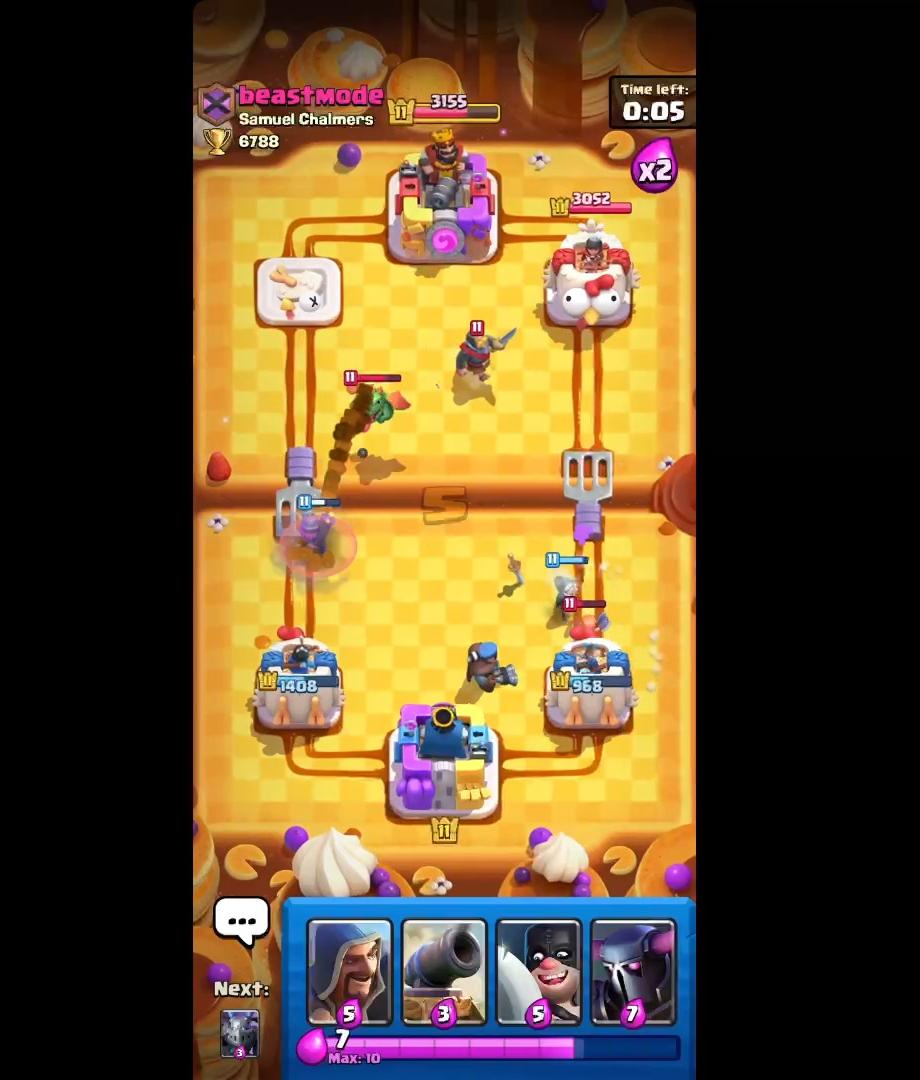Baby Dragon: (336, 366, 414, 435)
Knight: (444, 312, 517, 390)
